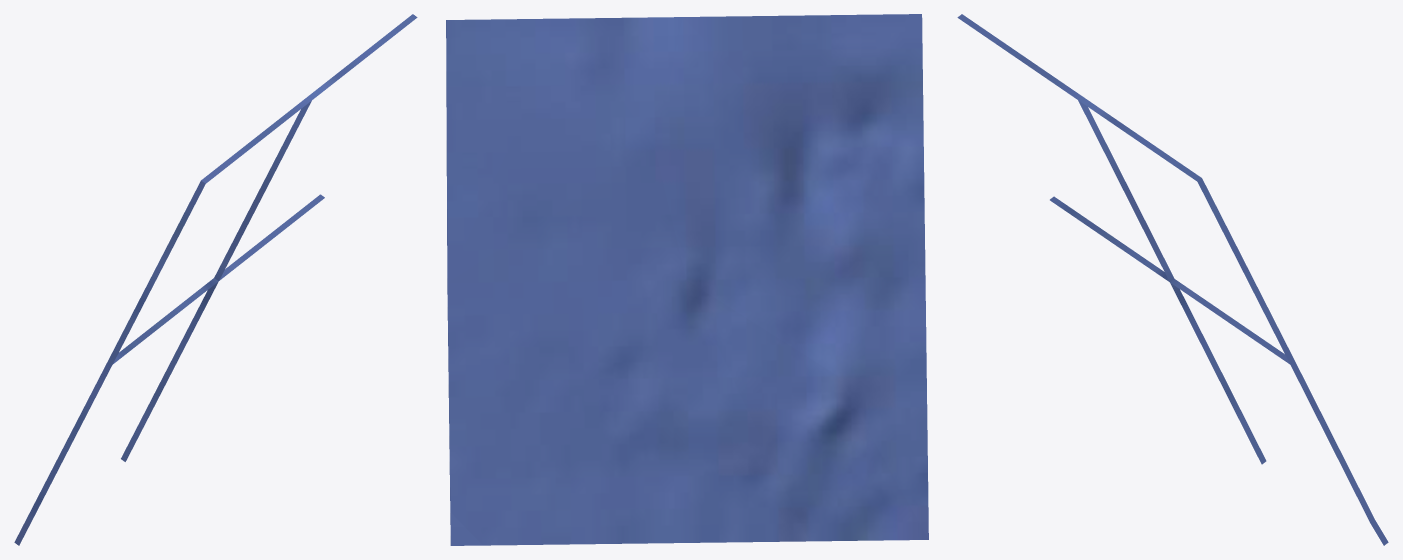
The picture shows the model from 3 angles, left to right: view 1: azimuth 30°, elevation 25°; view 2: azimuth 150°, elevation 25°; view 3: azimuth 270°, elevation 25°; orthographic projection. The views are drawn at different scales.
Size of the model in its own units: 19631 by 17846 by 16772.
1 material, 1 textured.
